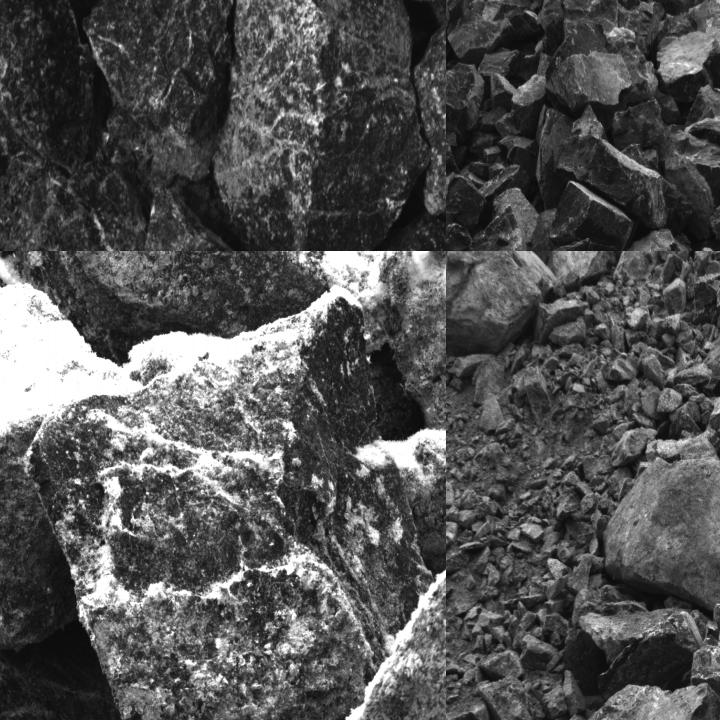stone: (22, 286, 433, 719), (215, 0, 425, 250), (0, 269, 117, 658), (59, 251, 445, 357), (82, 0, 232, 178), (326, 522, 445, 719), (603, 456, 719, 607), (0, 0, 101, 171), (0, 145, 148, 250), (556, 135, 694, 230), (446, 251, 568, 357), (144, 173, 303, 250), (599, 612, 704, 700), (546, 51, 632, 128), (544, 0, 620, 84), (549, 181, 638, 250), (656, 30, 719, 104), (609, 32, 658, 108), (496, 76, 552, 139), (448, 18, 515, 68), (446, 64, 486, 145), (446, 172, 493, 229), (618, 1, 664, 58), (470, 205, 528, 250), (680, 143, 719, 208), (551, 251, 619, 288), (598, 226, 693, 250), (693, 0, 719, 80), (610, 426, 658, 467), (683, 88, 719, 130), (479, 649, 524, 678), (522, 635, 558, 671), (689, 273, 719, 313), (562, 668, 587, 716), (605, 353, 639, 383), (565, 556, 593, 592), (704, 308, 719, 373), (505, 699, 553, 719), (663, 277, 687, 316), (446, 223, 474, 250), (654, 386, 682, 413), (707, 381, 719, 428), (709, 201, 719, 243)
